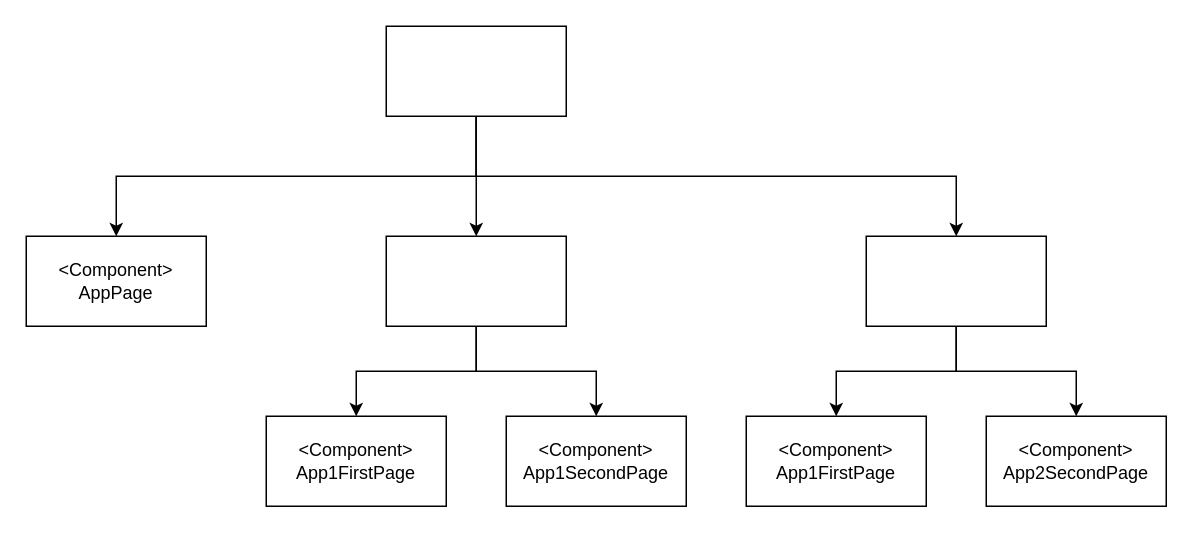
This 1193x533 diagram has some shape labels left out. Here are the shapes that lost their labels. From the top down, the centre of each, then its label:
At [475,70]: "<Module> AppModule".
At [475,280]: "<Module> App1Module".
At [955,280]: "<Module> App2Module".
